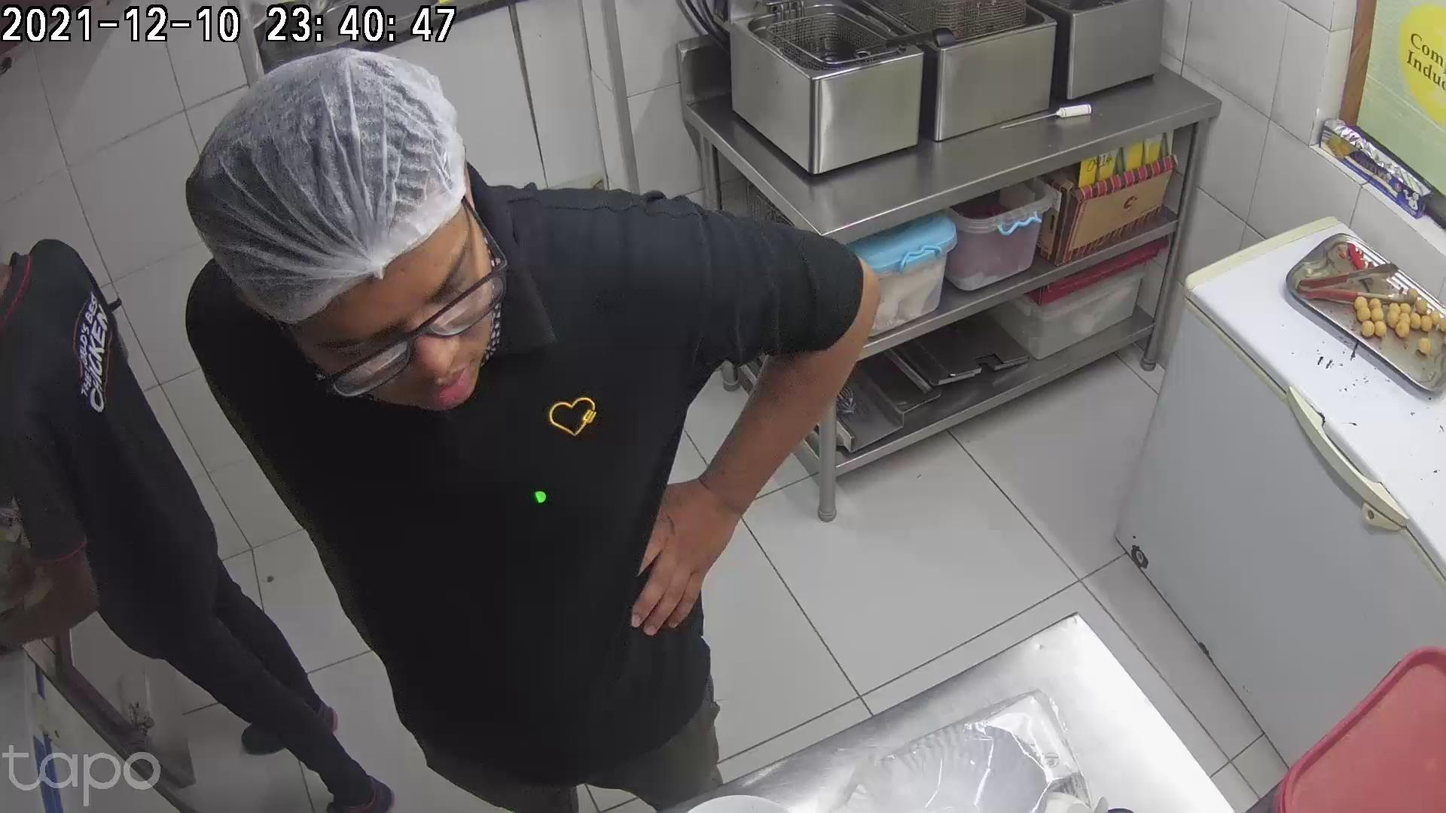no_gloves: (344, 647, 452, 771)
